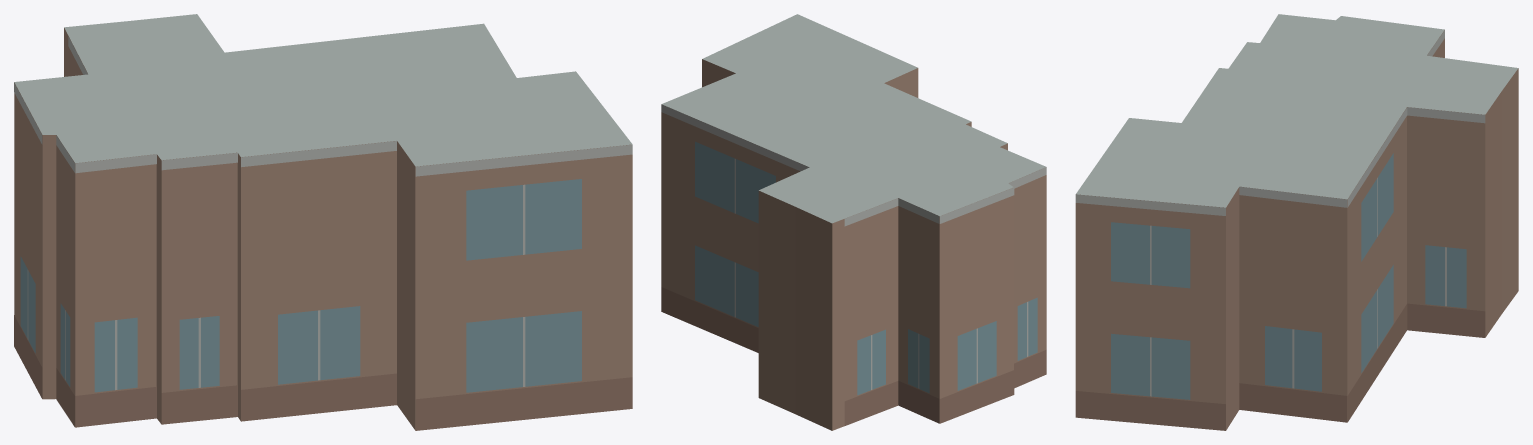
The model's file is survey-upis-32506473.glb.
The picture shows the model from 3 angles, left to right: view 1: azimuth 30°, elevation 25°; view 2: azimuth 150°, elevation 25°; view 3: azimuth 270°, elevation 25°; orthographic projection. The views are drawn at different scales.
Parts seen in each view (by area): view 1: survey-upis-32506473.tmp; view 2: survey-upis-32506473.tmp; view 3: survey-upis-32506473.tmp.
Boxes of the visible parts, bbox=[...] form: survey-upis-32506473.tmp: bbox=[14, 14, 632, 430]; survey-upis-32506473.tmp: bbox=[661, 14, 1046, 430]; survey-upis-32506473.tmp: bbox=[1075, 14, 1518, 430].
Size of the model in its own units: 11.92 by 6.4 by 11.52.
